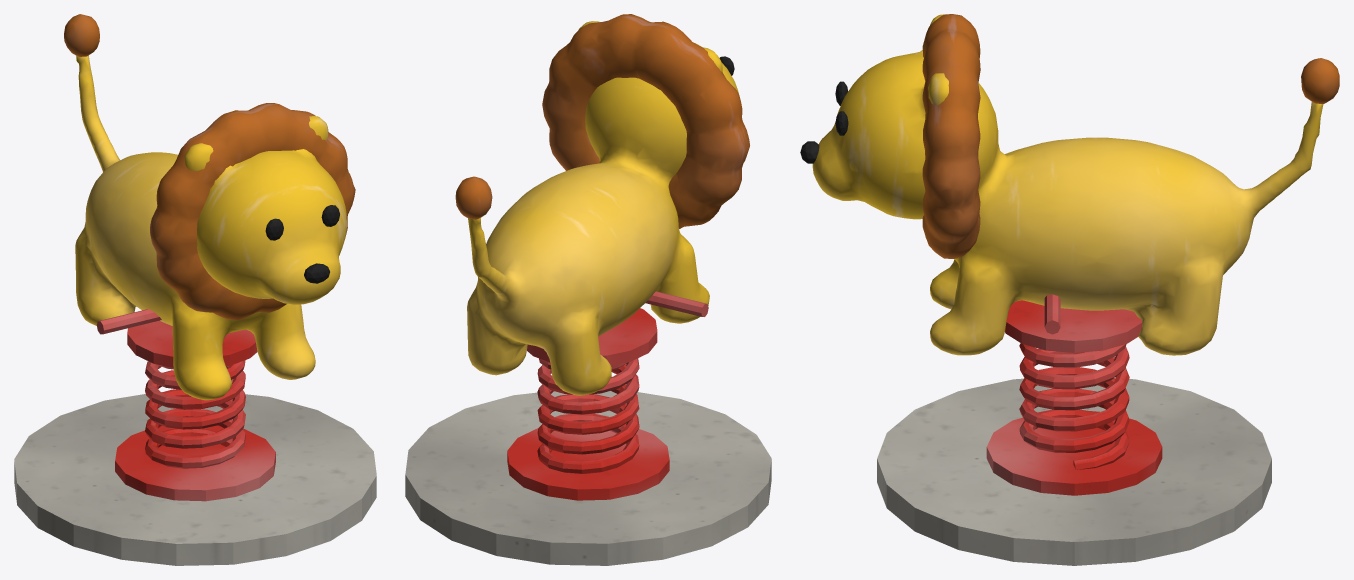
File: SpringLion.gltf
3 renders of one model, left to right at view 1: azimuth 30°, elevation 25°; view 2: azimuth 150°, elevation 25°; view 3: azimuth 270°, elevation 25°, orthographic. The views are drawn at different scales.
Visible parts, largest first — view 1: SpringLion; view 2: SpringLion; view 3: SpringLion.
Boxes of the visible parts, x1,y1,x2,y2 form: SpringLion: [14, 14, 376, 565]; SpringLion: [405, 14, 771, 565]; SpringLion: [800, 14, 1339, 565].
Size of the model in its own units: 0.9 by 1.15 by 1.23.
Materials: 5 (5 with a texture image).
